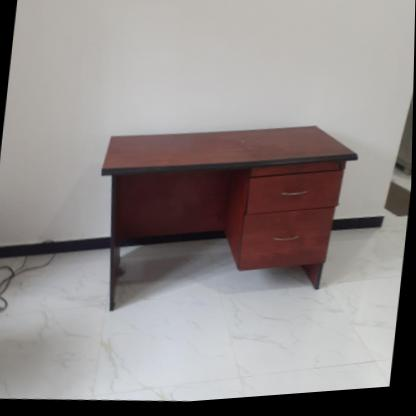Ceramic floor: (0, 220, 409, 404)
Table: (70, 94, 371, 340)
